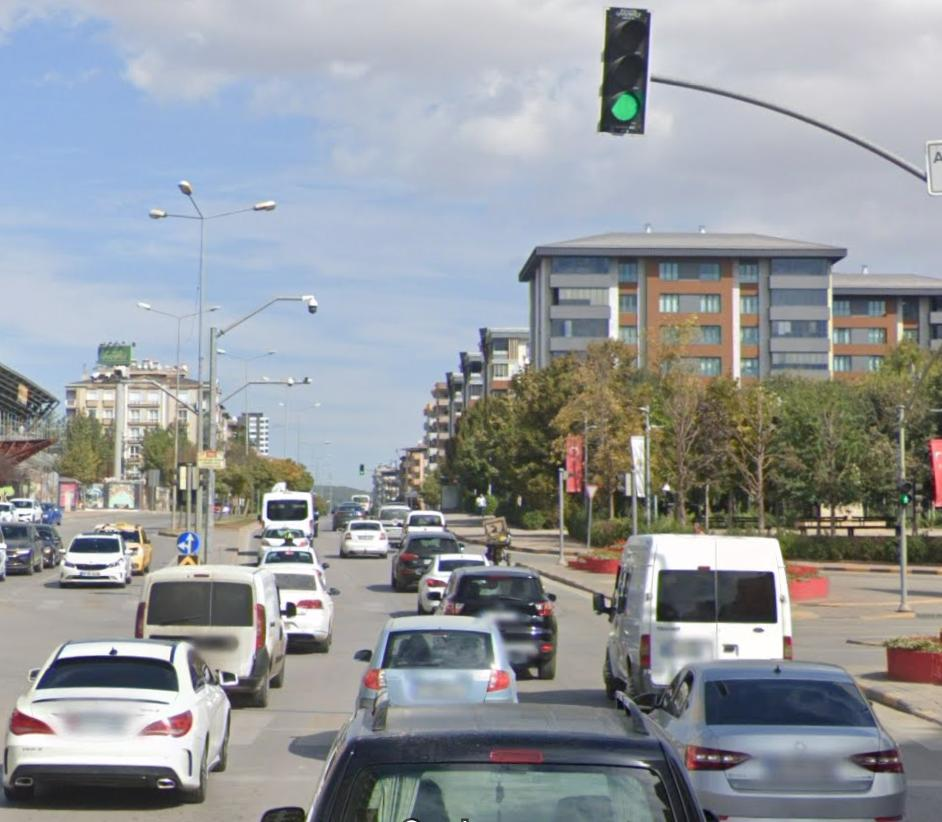greenlight: (607, 10, 650, 135)
